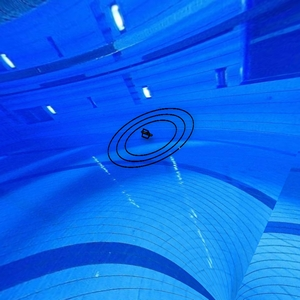circle: (103, 107, 196, 172)
submarine: (138, 126, 162, 147)
